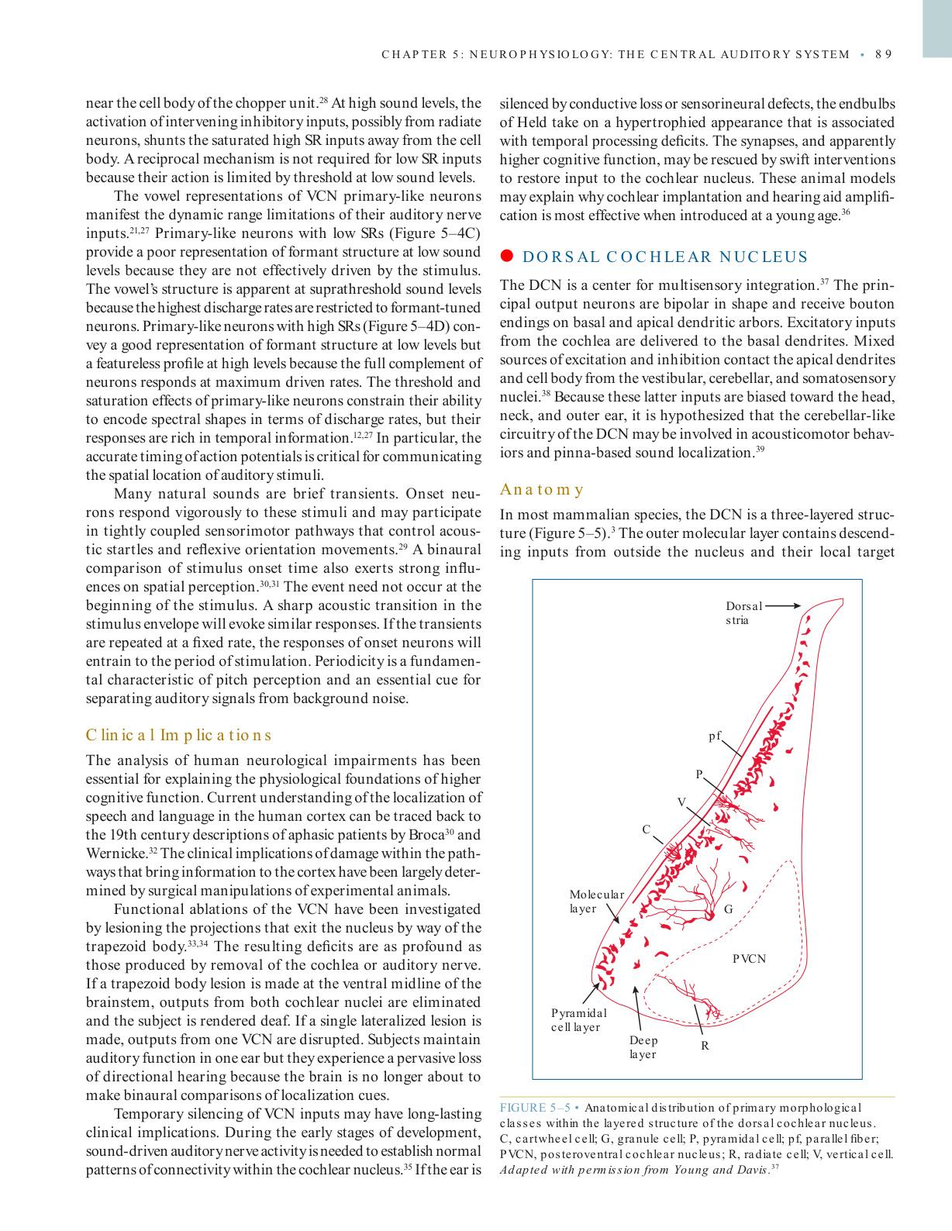caption: (498, 1099, 895, 1178)
header: (380, 48, 851, 60)
image: (536, 582, 858, 1073)
section-heading: (522, 249, 809, 265)
sub-section-heading: (85, 726, 272, 746), (499, 480, 585, 499)
text: (83, 93, 484, 709), (82, 752, 484, 1181), (497, 275, 898, 460), (496, 92, 899, 226), (498, 505, 898, 560)
